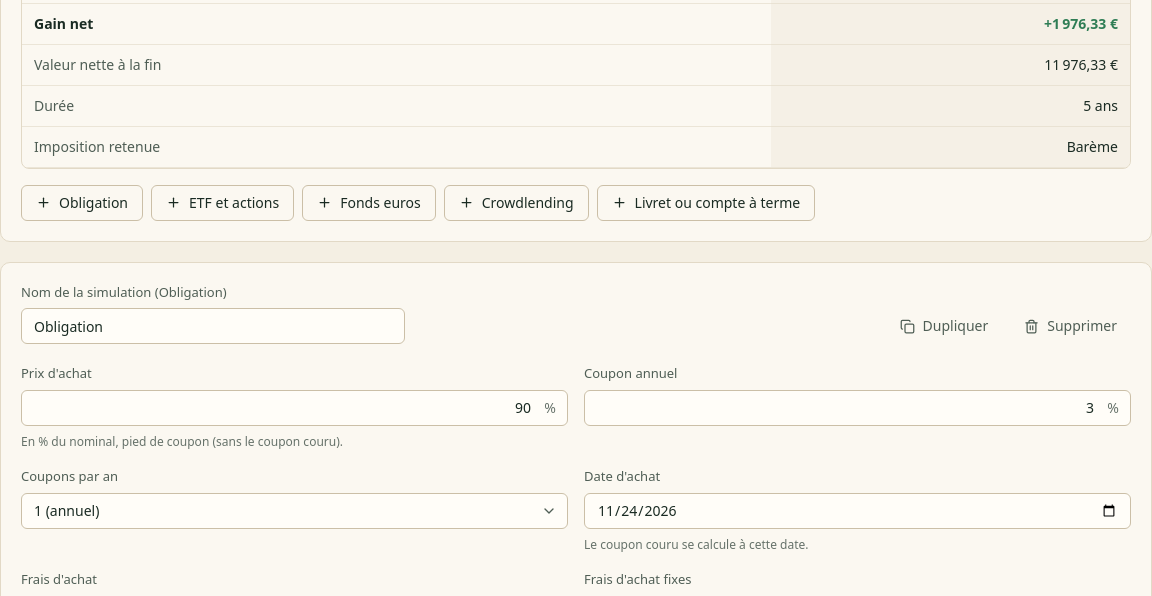
Test: page Simulateurs › saisie au clavier avec le routeur de l'application : la date et le nom tapés restent
The image size is (1152, 596).
(page scrolled)
Click the field labelled "Nom de la simulation (Obligation)": click(213, 326) top-left (21, 308), bottom-right (405, 344)
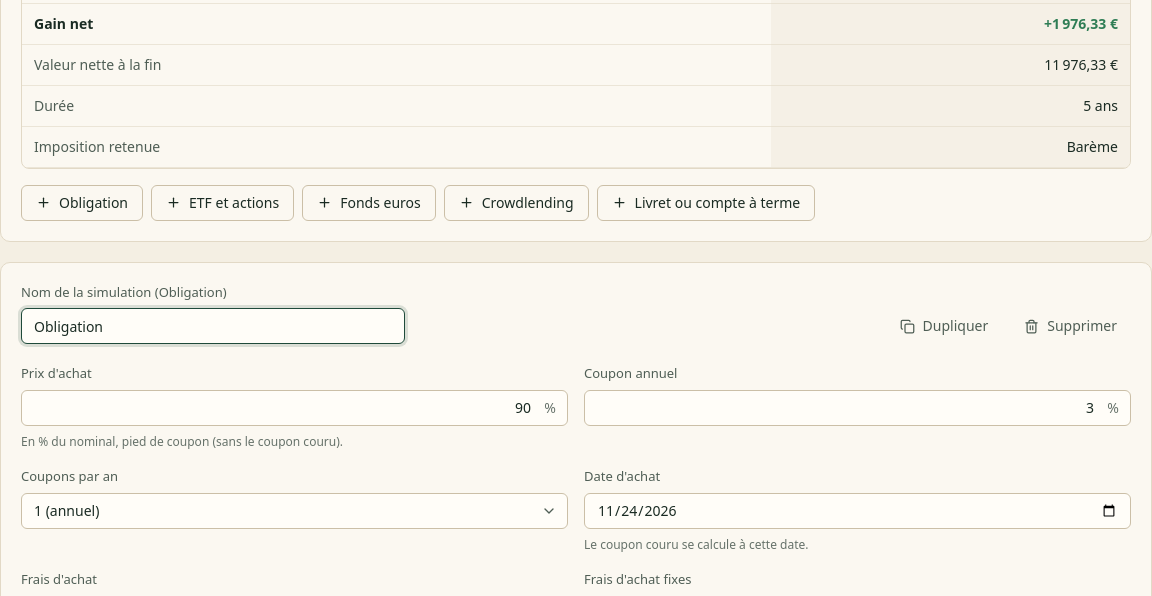
Type keys " à 5 ans"
(page scrolled)
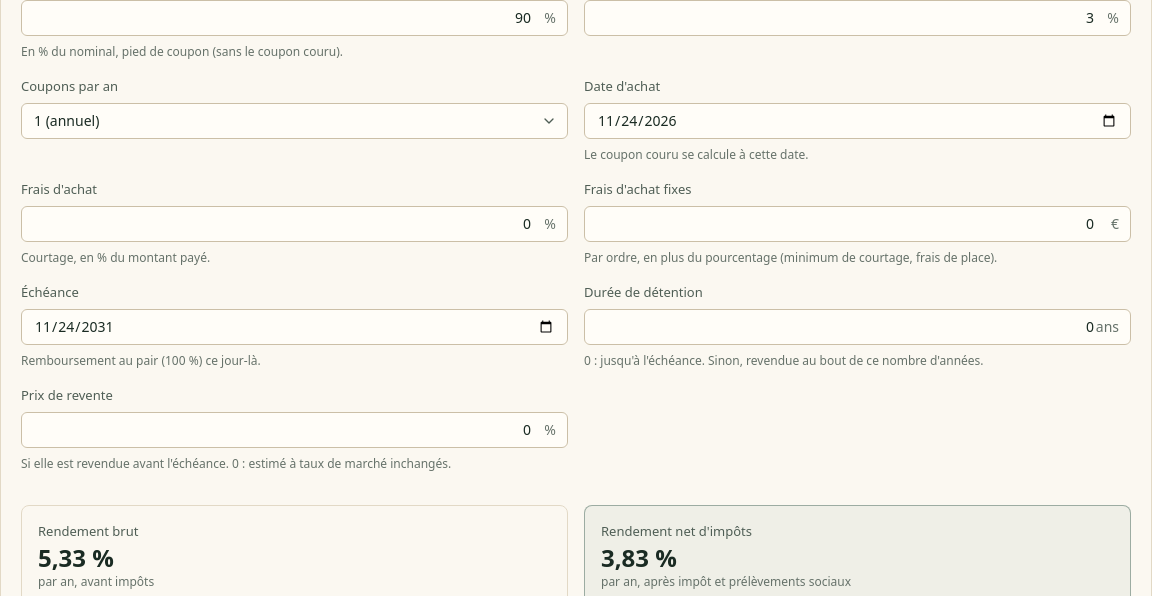
Clear the date field labelled "Échéance": (294, 326) top-left (21, 308), bottom-right (568, 344)
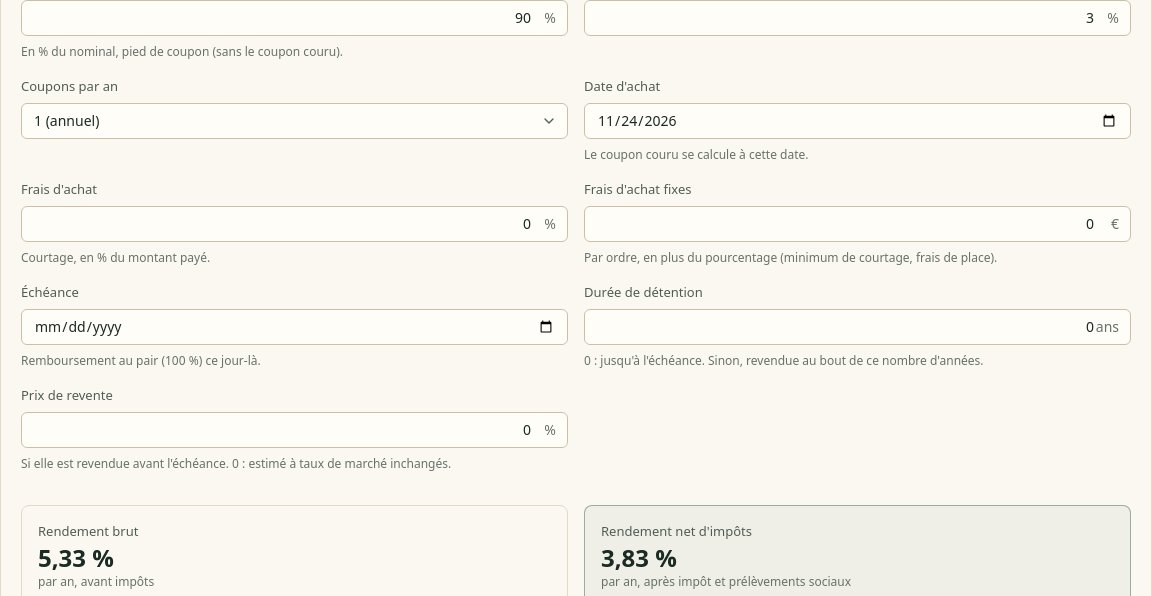
In the date field labelled "Échéance": (294, 326) top-left (21, 308), bottom-right (568, 344), type "0003-03-01"
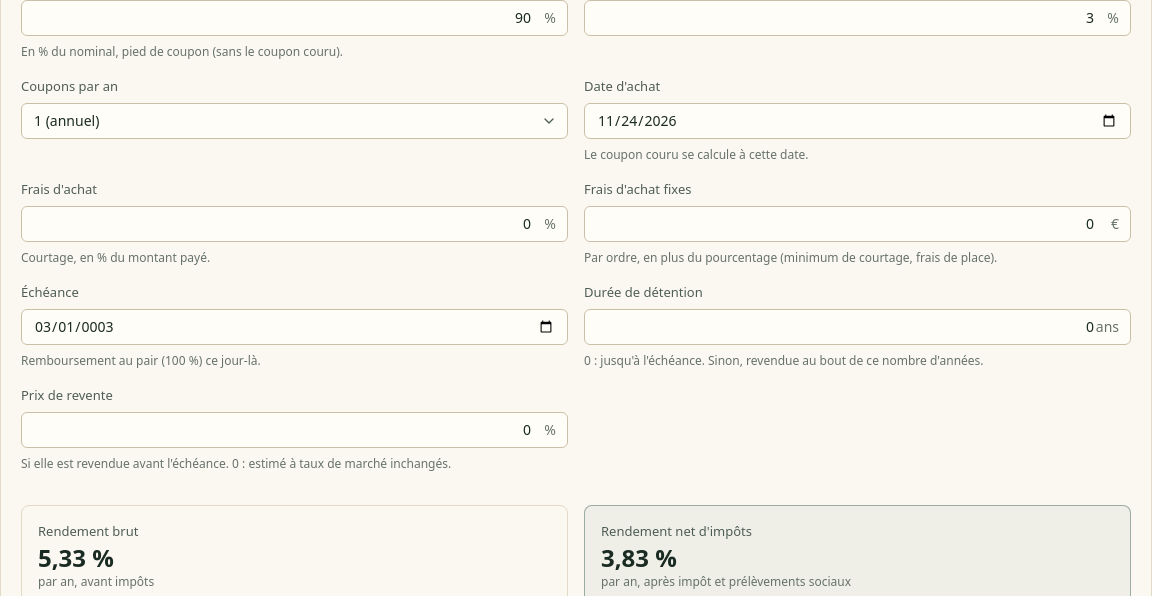
In the date field labelled "Échéance": (294, 326) top-left (21, 308), bottom-right (568, 344), type "2032-03-01"
(page scrolled)
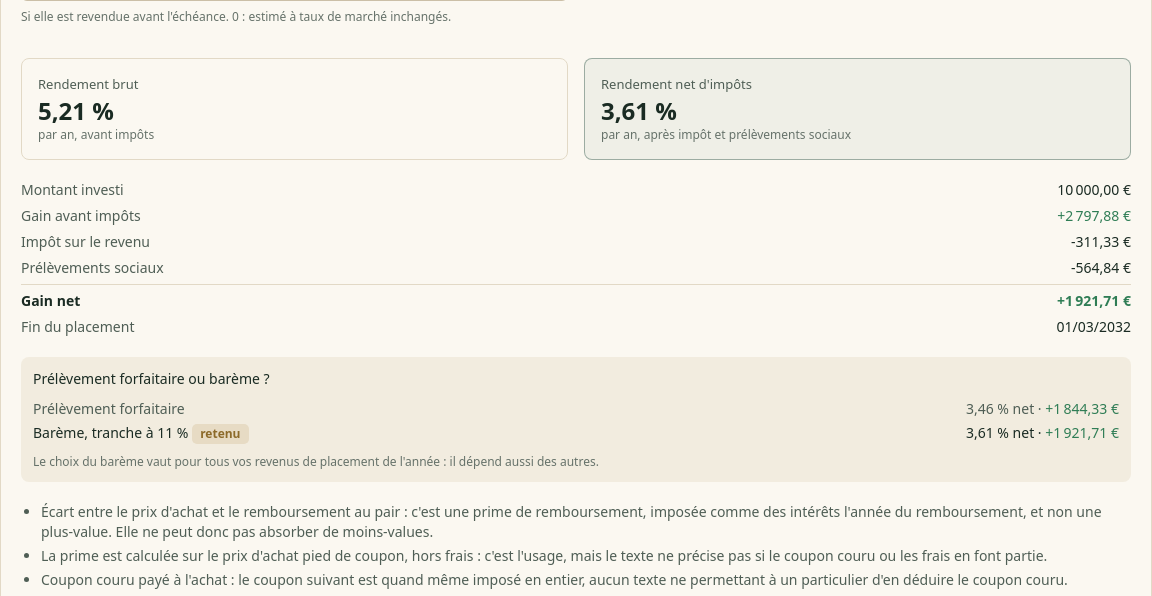
Now the text "01/03/2032" is shown, box top-left (1056, 316), bottom-right (1131, 336)
